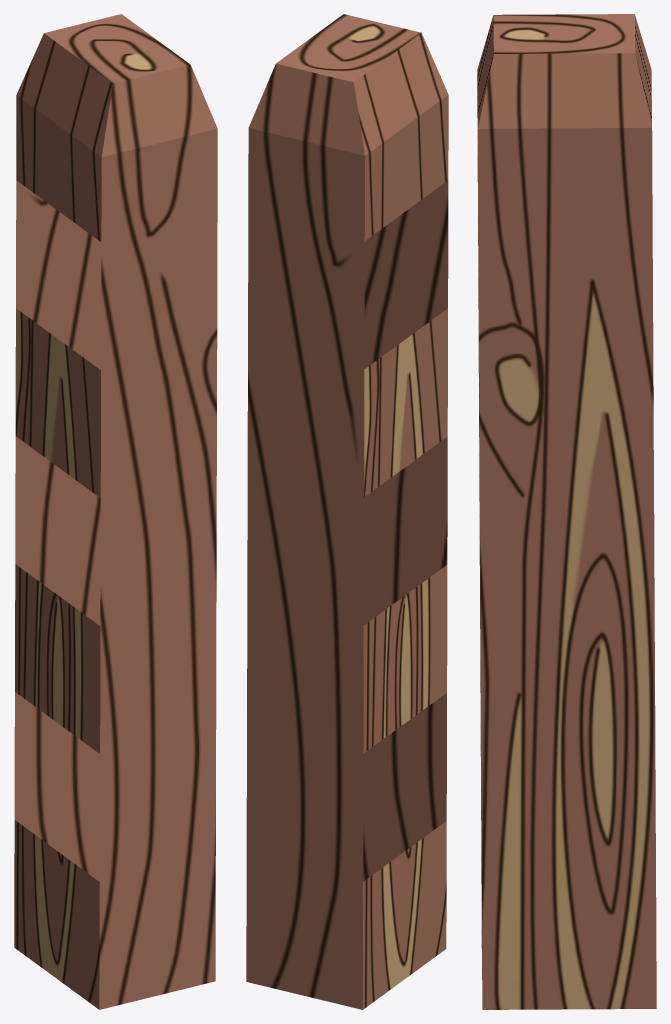
Rendered from fencePost.FBX.
The picture shows the model from 3 angles, left to right: view 1: azimuth 30°, elevation 25°; view 2: azimuth 150°, elevation 25°; view 3: azimuth 270°, elevation 25°; orthographic projection. The views are drawn at different scales.
Visible parts, largest first — view 1: fencePost; view 2: fencePost; view 3: fencePost.
Boxes of the visible parts, bbox=[...] form: fencePost: bbox=[14, 14, 217, 1009]; fencePost: bbox=[246, 14, 448, 1009]; fencePost: bbox=[477, 14, 656, 1009].
Bounding box in the file's own units: 6.43 × 8.28 × 48.17.
Materials: 1 (1 with a texture image).
